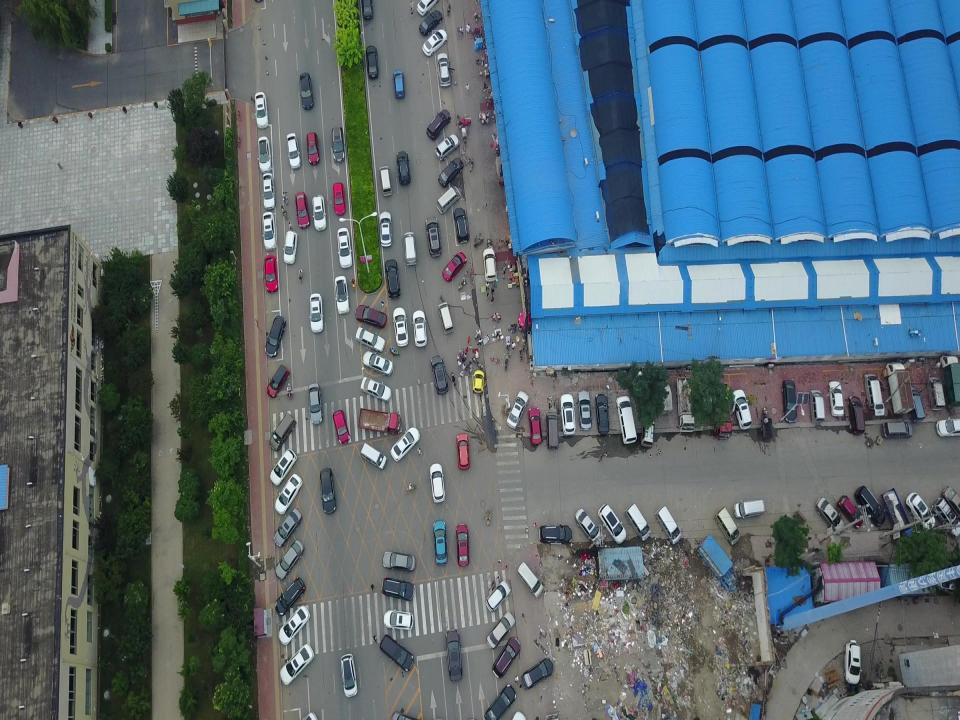car: (280, 644, 314, 685), (278, 605, 310, 645), (854, 486, 885, 527), (379, 635, 414, 671), (274, 578, 306, 616), (275, 540, 304, 580), (484, 684, 516, 720), (274, 473, 302, 514), (492, 637, 520, 678), (598, 503, 626, 544), (486, 610, 516, 648), (273, 508, 302, 547), (906, 492, 936, 529), (815, 497, 845, 533), (521, 658, 554, 690), (933, 497, 960, 536), (575, 508, 603, 545), (390, 427, 420, 461), (270, 448, 296, 485), (265, 315, 286, 357), (838, 495, 864, 528), (446, 629, 462, 681), (844, 639, 862, 685), (506, 391, 528, 428), (355, 304, 387, 329), (732, 389, 752, 429), (266, 364, 290, 397), (382, 577, 415, 601), (355, 327, 385, 353), (486, 580, 511, 611), (340, 654, 358, 697), (427, 108, 451, 140), (360, 377, 392, 401), (443, 251, 467, 282), (430, 355, 449, 394), (320, 468, 336, 514), (559, 393, 576, 436), (363, 352, 393, 376), (439, 157, 463, 187), (781, 380, 797, 423), (383, 552, 416, 572), (337, 228, 353, 269), (422, 29, 447, 55), (332, 410, 350, 446), (435, 134, 459, 161), (538, 524, 572, 543), (426, 217, 442, 257), (383, 609, 413, 630), (433, 520, 447, 565), (418, 9, 442, 35), (384, 259, 400, 298), (392, 307, 408, 346), (308, 383, 323, 424), (437, 53, 455, 87), (942, 486, 960, 519), (456, 524, 470, 566), (595, 393, 609, 435), (286, 134, 302, 170), (453, 207, 469, 243), (577, 390, 591, 431), (335, 276, 350, 314), (309, 293, 323, 333), (262, 211, 276, 251), (430, 464, 444, 503), (264, 255, 278, 293), (828, 381, 843, 416), (300, 72, 314, 109), (413, 310, 427, 347), (296, 191, 310, 228), (882, 421, 912, 438), (456, 434, 470, 470), (528, 407, 541, 445), (257, 137, 271, 172), (379, 211, 393, 246), (331, 127, 345, 162), (262, 173, 275, 210), (255, 92, 268, 128), (396, 151, 410, 184), (283, 231, 297, 264), (306, 132, 320, 165), (483, 248, 497, 281), (313, 195, 326, 230), (936, 418, 959, 437), (332, 183, 346, 214), (366, 45, 378, 78), (393, 69, 405, 98), (417, 0, 438, 16), (472, 371, 484, 394), (362, 1, 374, 18), (476, 338, 482, 345)
truck: (880, 487, 916, 546), (886, 363, 914, 414), (358, 407, 402, 434), (940, 355, 960, 411), (714, 383, 732, 440), (677, 376, 695, 432), (660, 382, 672, 416)
van: (270, 412, 296, 451), (616, 396, 637, 444), (656, 506, 682, 544), (714, 507, 740, 545), (625, 503, 651, 540), (863, 374, 885, 416), (517, 562, 543, 597), (360, 443, 387, 470), (908, 385, 926, 424), (847, 396, 865, 435), (437, 187, 461, 214), (927, 376, 945, 410), (734, 500, 764, 518), (438, 302, 454, 334), (810, 390, 825, 424), (545, 413, 559, 449), (640, 413, 654, 448), (403, 232, 416, 266), (378, 166, 392, 196)
